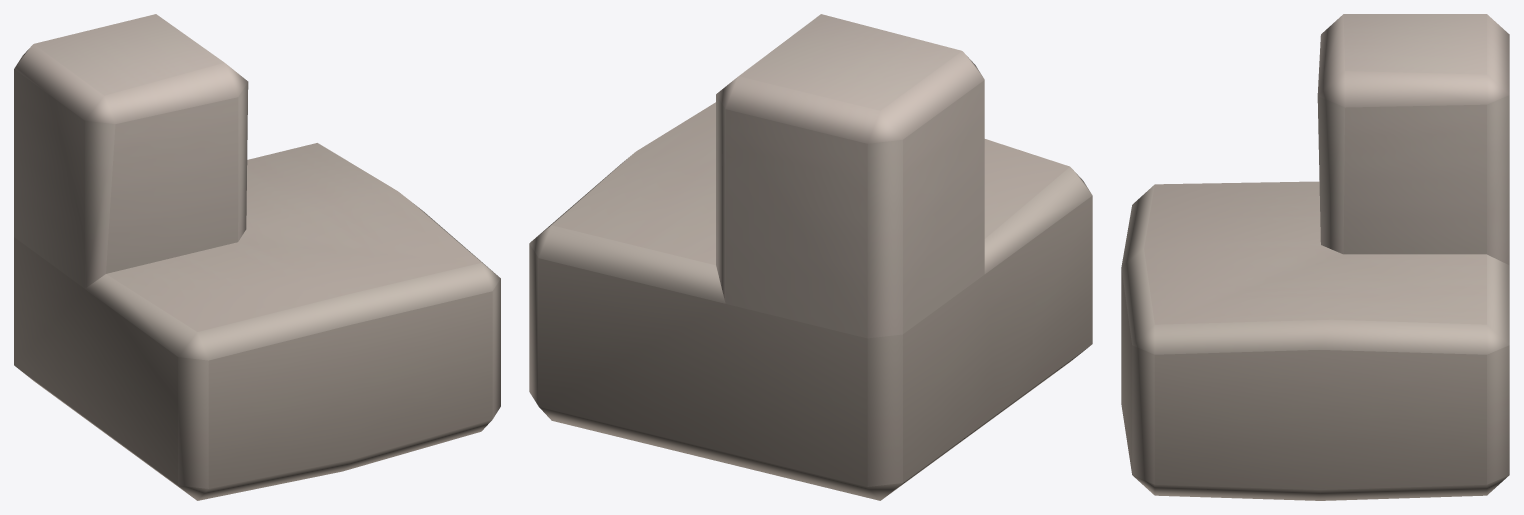
The model's file is elf_stair_corner_conv_shade1.fbx.
The picture shows the model from 3 angles, left to right: view 1: azimuth 30°, elevation 25°; view 2: azimuth 150°, elevation 25°; view 3: azimuth 270°, elevation 25°; orthographic projection. The views are drawn at different scales.
Visible parts, largest first — view 1: elf_stair_corner_conv_shade1; view 2: elf_stair_corner_conv_shade1; view 3: elf_stair_corner_conv_shade1.
Boxes of the visible parts, left/top/right/bottom form: elf_stair_corner_conv_shade1: left=14, top=14, right=500, bottom=500; elf_stair_corner_conv_shade1: left=529, top=14, right=1092, bottom=500; elf_stair_corner_conv_shade1: left=1121, top=14, right=1509, bottom=500.
Size of the model in its own units: 50.88 by 50.69 by 51.43.
